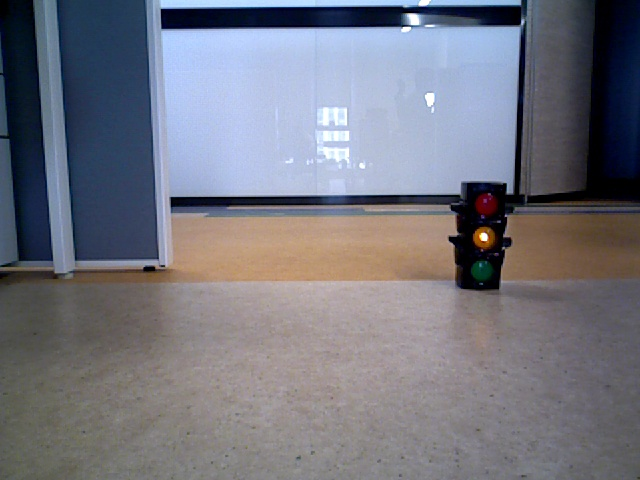yellow: (463, 187, 500, 284)
